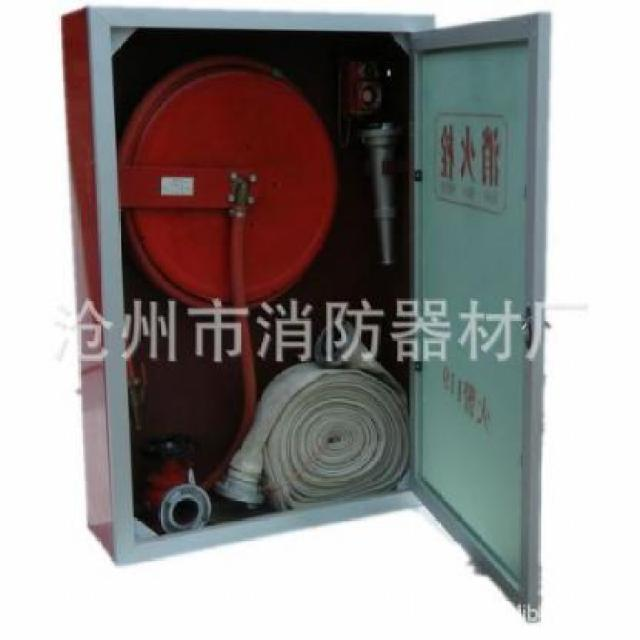firehydrant: (54, 0, 555, 626)
